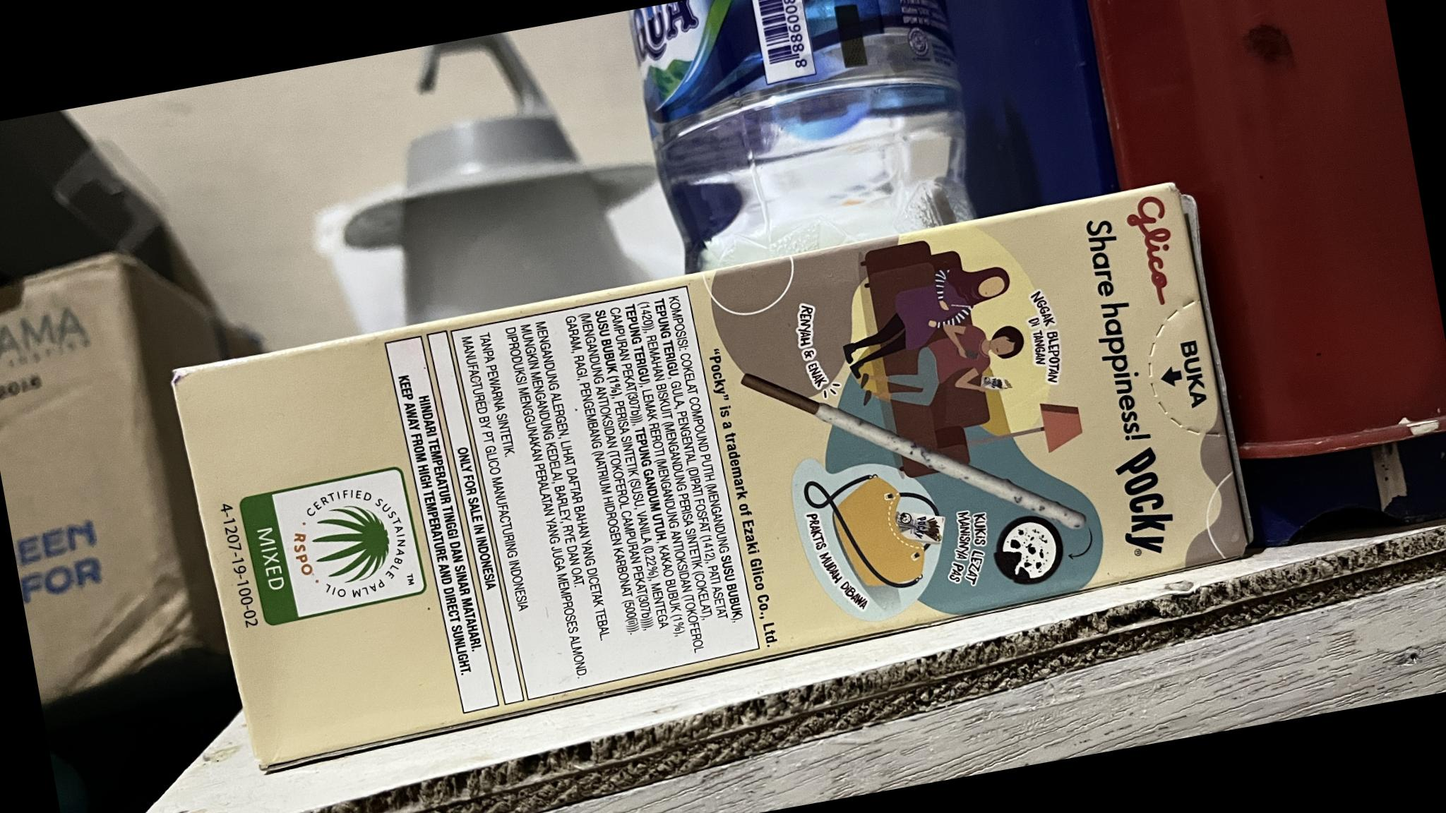Kertas: (172, 180, 1251, 773)
